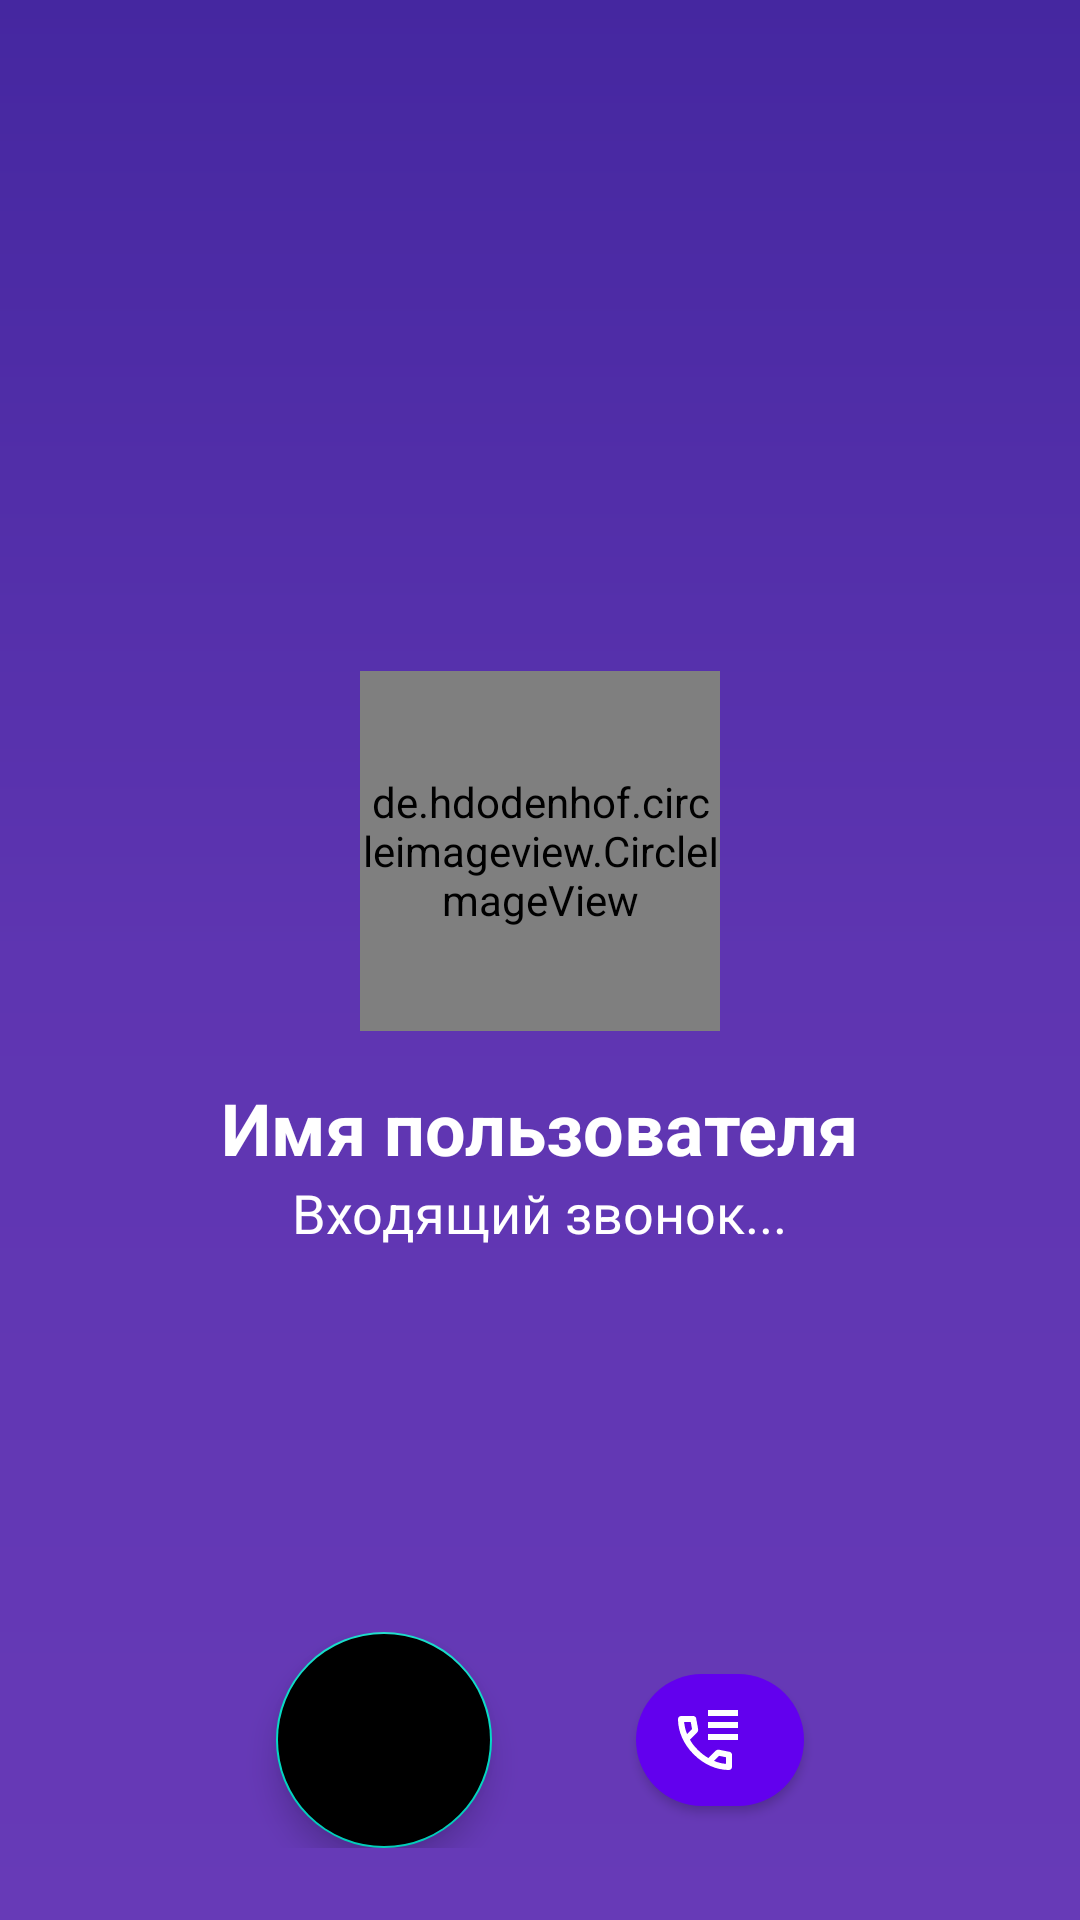

Screen size 1080px x 1920px. Icon name, then its center in pixels as [x,y]:
call: [720,1741]
